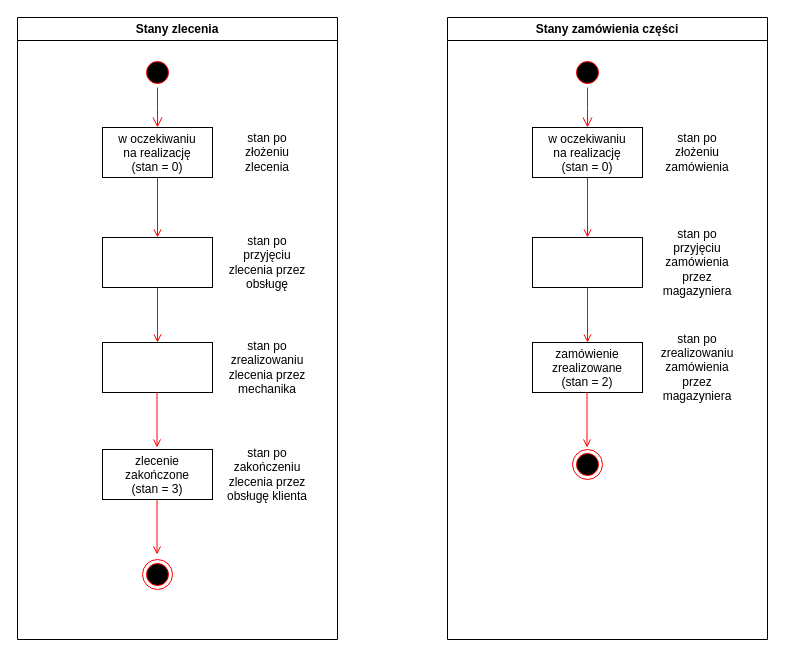
Some shapes in this 785 by 657 pixel diagram are drawn without their labels. The centre of each missing label's shape, as x and y in pixels:
"zamówienie w realizacji (stan = 1)" goes at (x=587, y=262).
"zlecenie w realizacji (stan = 1)" goes at (x=157, y=262).
"zlecenie zrealizowane (stan = 2)" goes at (x=157, y=367).
